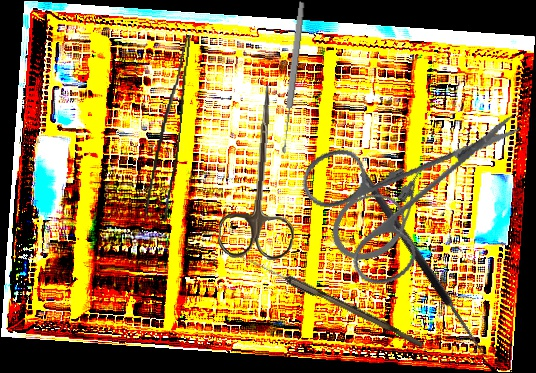Cannula: (318, 150, 452, 275)
Hook Surgical: (357, 164, 499, 361)
Iris Scissors: (282, 69, 524, 311), (217, 82, 302, 261)
Surgical Spoon: (237, 252, 426, 348), (278, 1, 307, 154)
Tissue Forceps: (144, 32, 191, 223)
